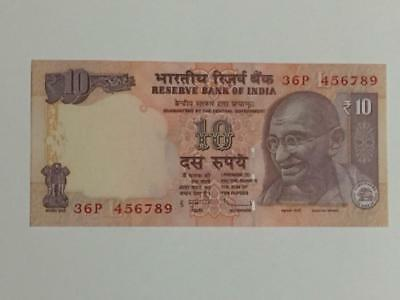ten_rupees_note: (30, 60, 390, 227)
